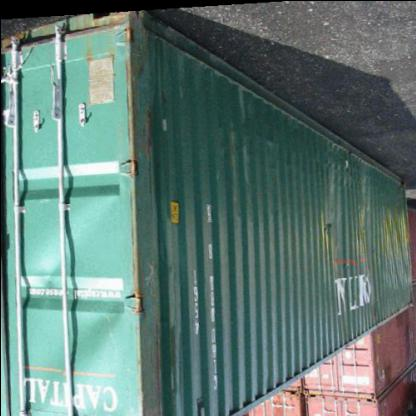Damage: (20, 204, 207, 411), (316, 137, 414, 342)
